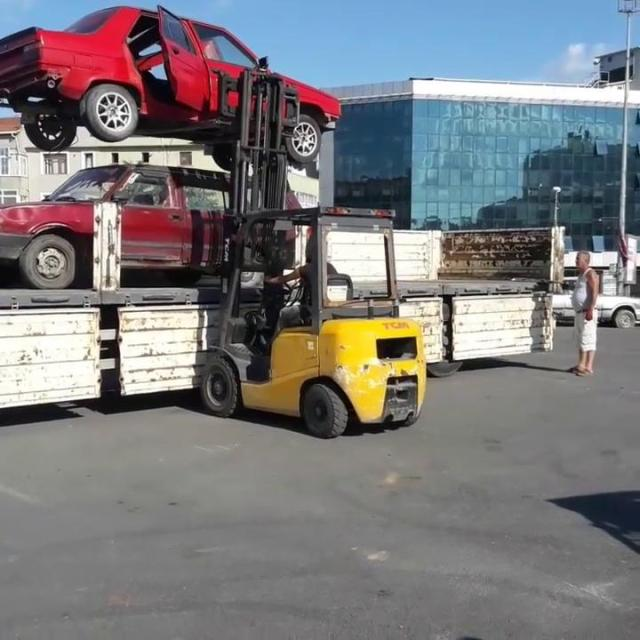forklift: (222, 148, 422, 438)
person: (262, 220, 358, 340), (564, 244, 614, 394)
